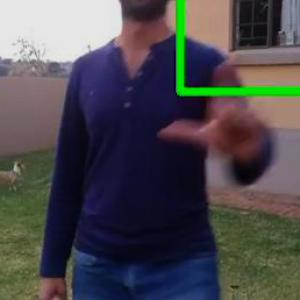land_hand: (160, 50, 268, 172)
